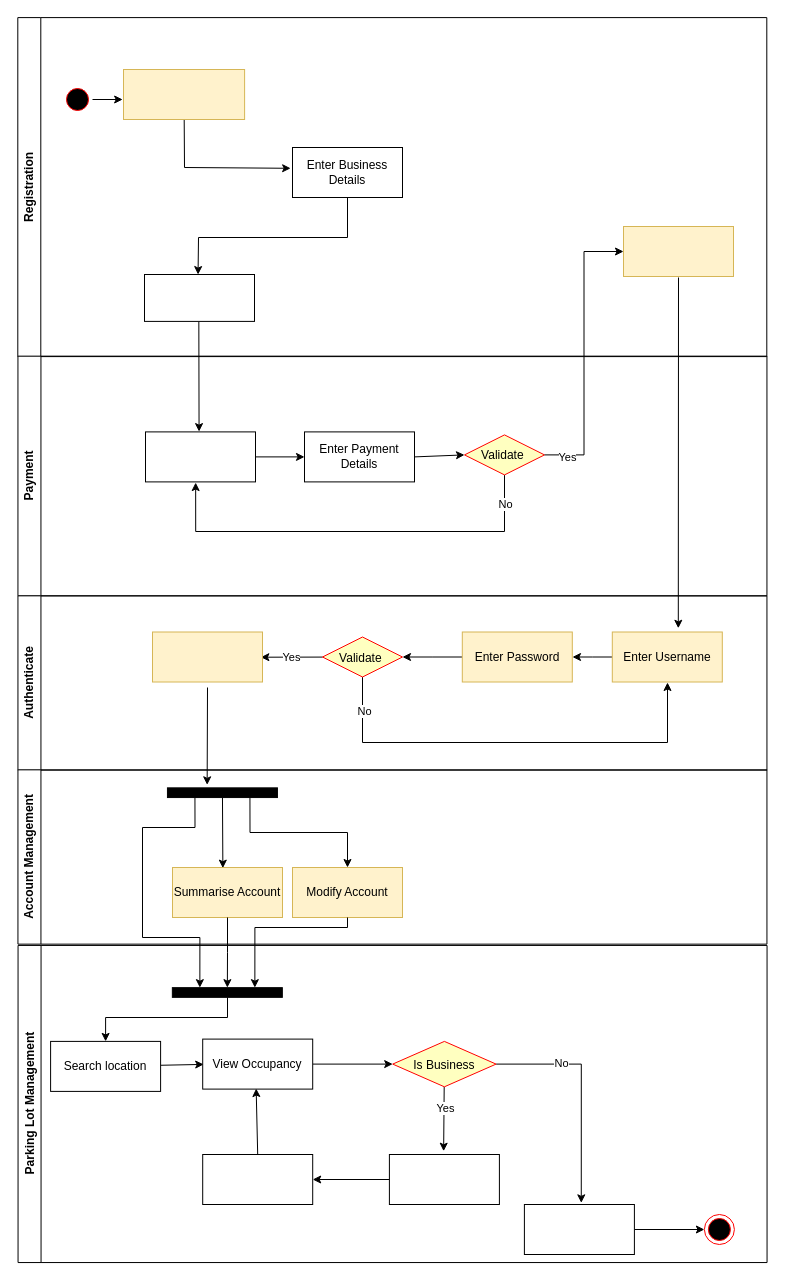
Image size: 785x1280. Some labels were removed from this diagram. The centre of each missing label's shape, as x and y in pixels:
Choose Plan: the point at 199,297
Create Account: the point at 678,251
Define Payment Method: the point at 200,456
Login: the point at 207,656
Navigate to parking: the point at 578,1229
Start Registration: the point at 183,94
Track License plate: the point at 257,1179
Track Occupancy: the point at 443,1179
